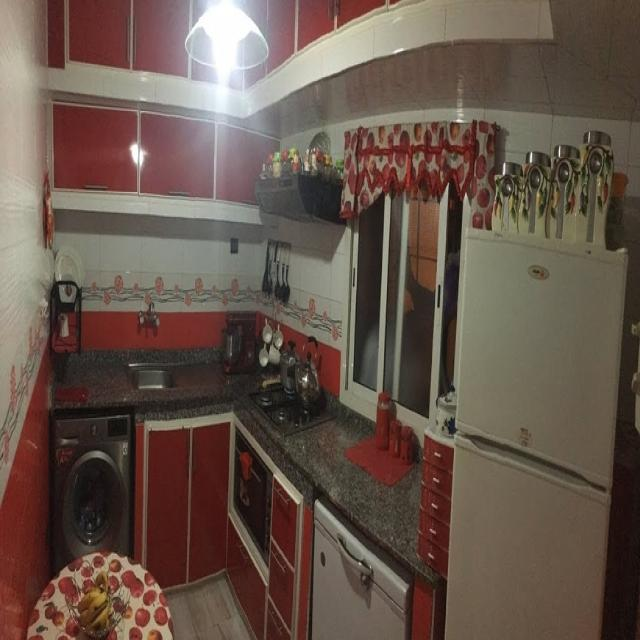cup: (271, 322, 288, 354), (266, 340, 282, 372), (259, 343, 273, 378), (259, 322, 273, 348)
jug: (298, 344, 324, 417), (278, 342, 302, 407)
oven: (311, 498, 410, 640), (230, 431, 276, 569)
refrigerator: (460, 236, 613, 640)
tap: (140, 307, 167, 336)
wash basin: (128, 355, 178, 408)
washing machine: (49, 408, 141, 579)
window: (349, 139, 446, 427)
